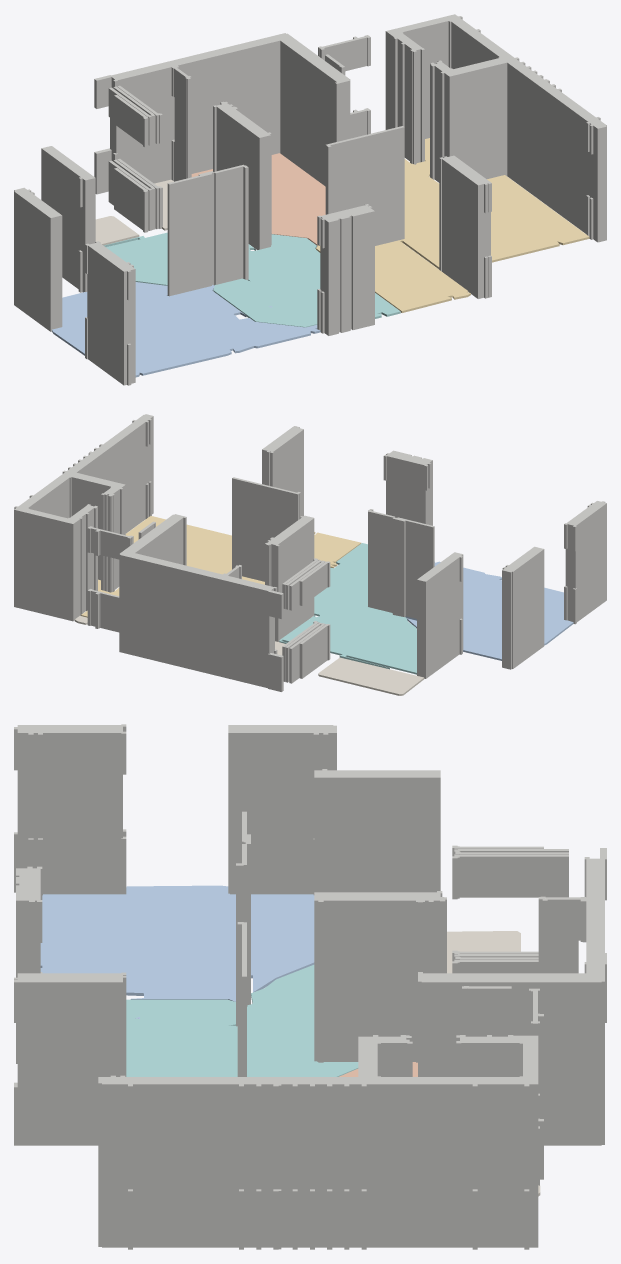
3 renders of one model, top to bottom at view 1: azimuth 30°, elevation 25°; view 2: azimuth 150°, elevation 25°; view 3: azimuth 270°, elevation 25°, orthographic. The views are drawn at different scales.
Visible parts, largest first — view 1: walls, room:living:2, room:bedroom:3, room:bath:1, room:kitchen:0, room:other:8; view 2: walls, room:bath:1, room:bedroom:3, room:living:2, room:other:8; view 3: walls, room:bedroom:3, room:bath:1, room:other:8.
Boxes of the visible parts, left/top/right/bottom form: walls: left=14, top=14, right=606, bottom=385; room:living:2: left=316, top=138, right=589, bottom=312; room:bedroom:3: left=52, top=282, right=320, bottom=377; room:bath:1: left=103, top=232, right=400, bottom=327; room:kitchen:0: left=191, top=153, right=325, bottom=246; room:other:8: left=95, top=216, right=139, bottom=245; walls: left=14, top=414, right=606, bottom=691; room:bath:1: left=279, top=543, right=416, bottom=674; room:bedroom:3: left=405, top=561, right=573, bottom=660; room:living:2: left=81, top=516, right=361, bottom=617; room:other:8: left=318, top=657, right=424, bottom=695; walls: left=14, top=724, right=606, bottom=1249; room:bedroom:3: left=40, top=885, right=314, bottom=1001; room:bath:1: left=126, top=965, right=358, bottom=1076; room:other:8: left=447, top=931, right=520, bottom=973.
Bounding box in the file's own units: 13.29 × 2.8 × 9.2.
